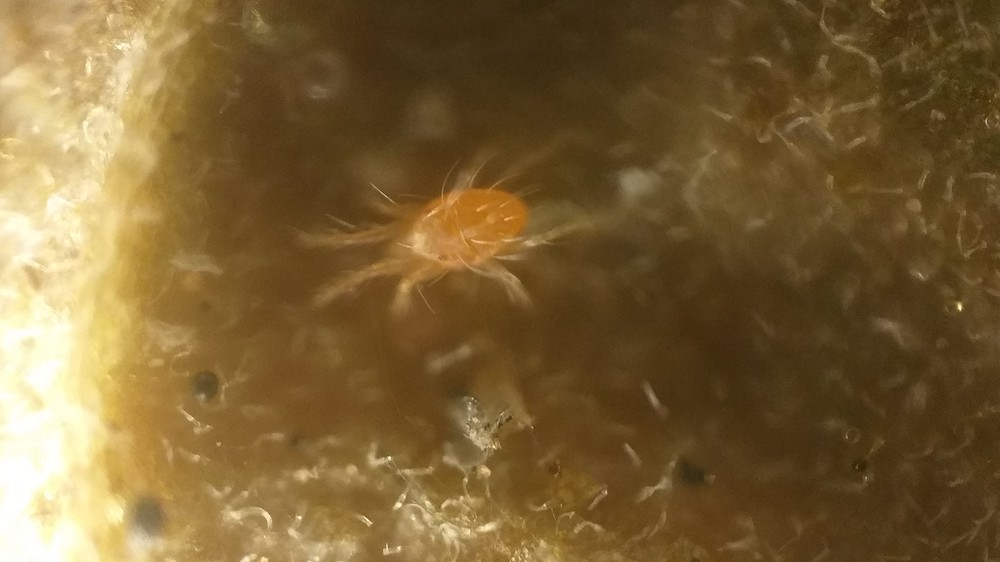Aracnido Rojo: (285, 121, 614, 330)
